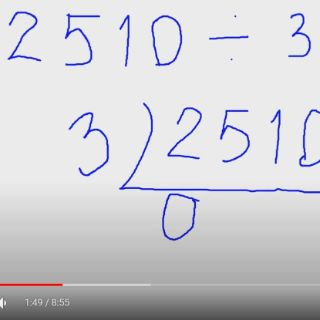.: (227, 54, 237, 65), (232, 10, 241, 20)
0: (160, 192, 200, 242), (149, 13, 183, 66)
1: (269, 109, 283, 165), (119, 12, 131, 68)
2: (165, 105, 203, 162), (6, 9, 44, 64)
3: (66, 111, 111, 177), (287, 12, 312, 59)
5: (64, 12, 102, 67), (219, 107, 251, 163)
